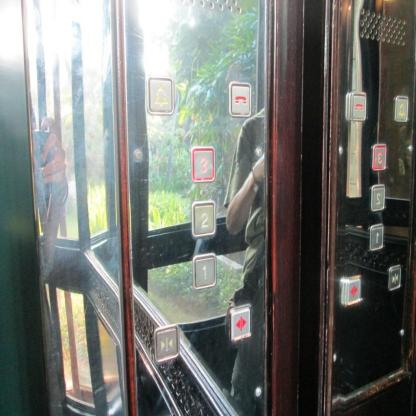1: (192, 252, 216, 289)
2: (190, 200, 216, 237)
3: (190, 145, 215, 183)
alarm: (146, 75, 174, 116), (394, 95, 408, 122)
call: (228, 81, 251, 117), (348, 92, 367, 121)
close: (152, 324, 180, 362), (387, 264, 401, 290)
open: (227, 304, 252, 342), (342, 274, 362, 304)
unknown: (370, 143, 387, 170), (368, 223, 384, 250), (369, 183, 384, 211)
